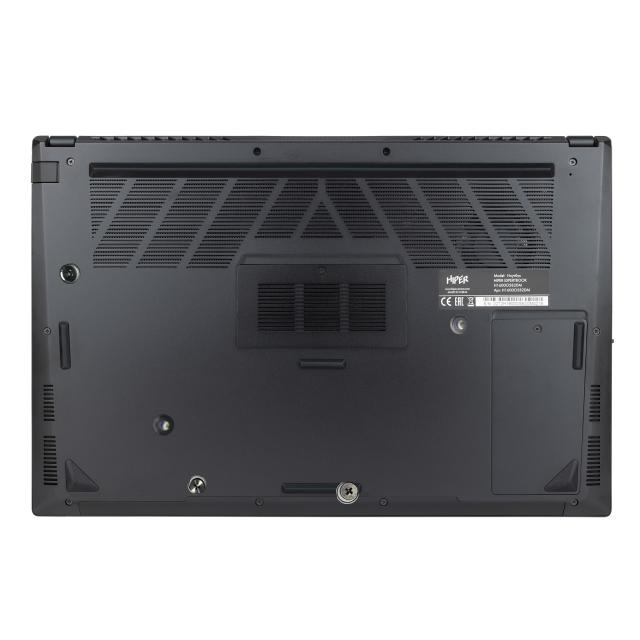lock: (336, 481, 359, 504), (59, 263, 80, 284), (187, 475, 206, 494)
missing_screw: (152, 414, 174, 436), (450, 314, 469, 334)
